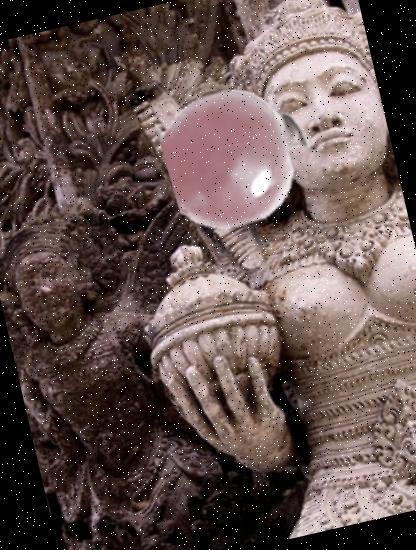Redcurrant: (152, 70, 324, 242)
